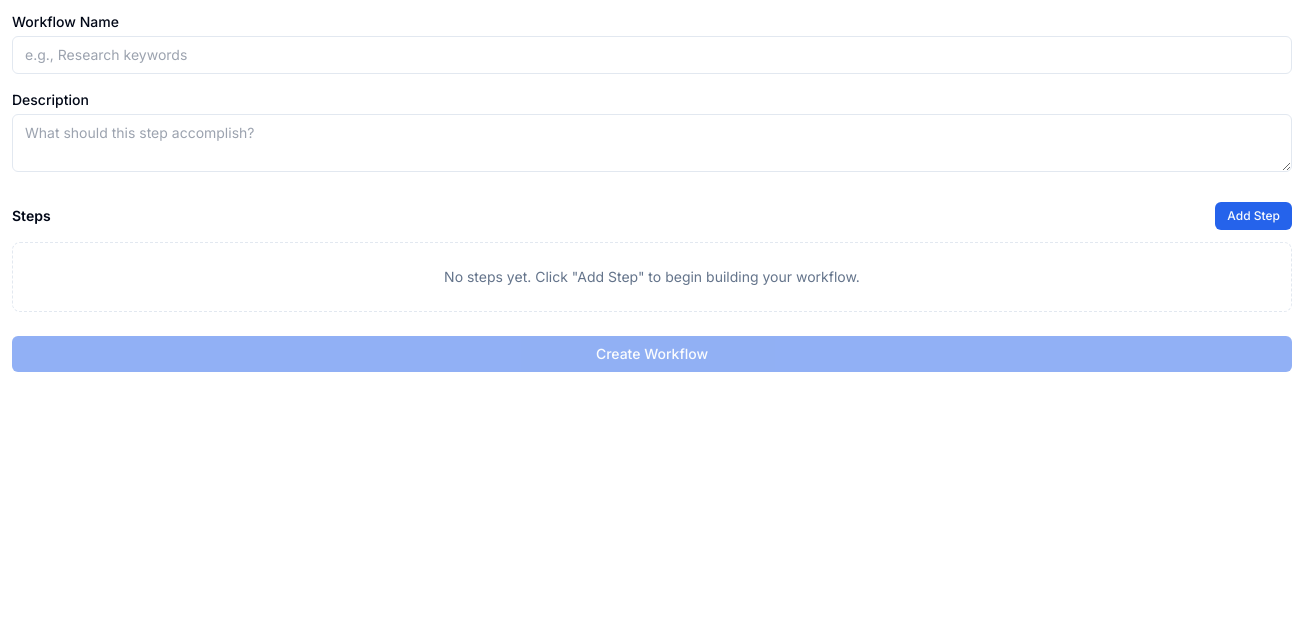
Test: WorkflowBuilder › submit button is enabled when form is valid (name + at least one valid step)
In the field named "Workflow name": (652, 55) [12,36,1292,74], type "My Workflow"
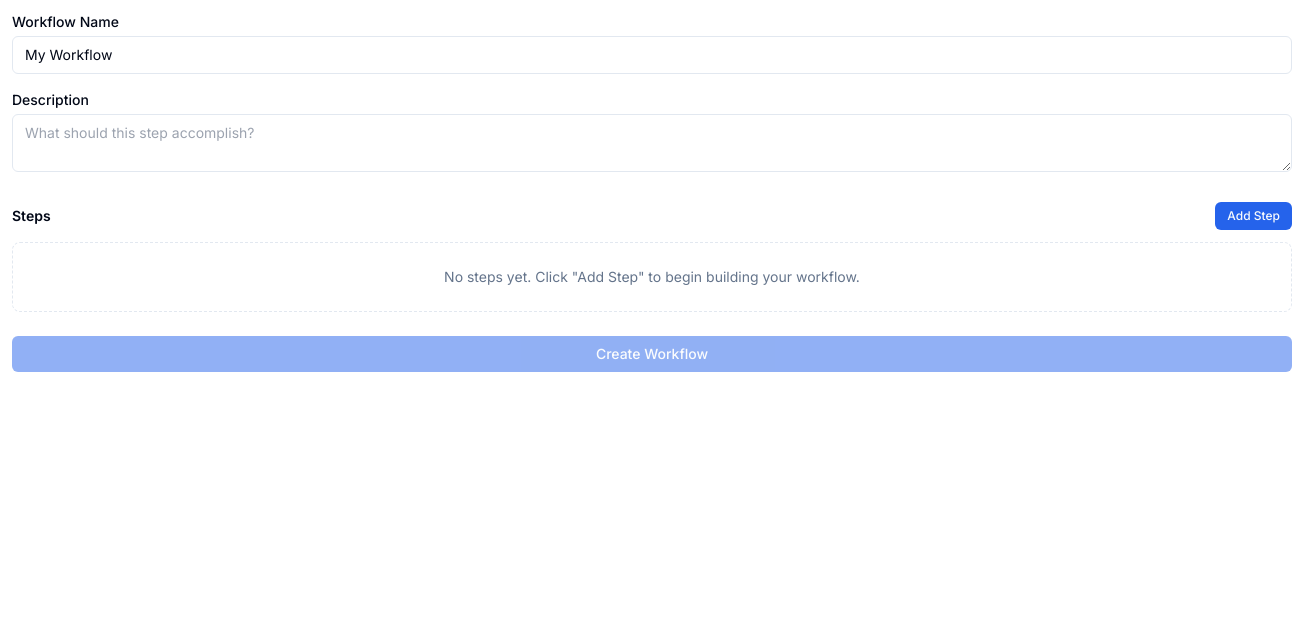
Click the button "Add Step": click(1254, 216) [1215,202,1292,230]
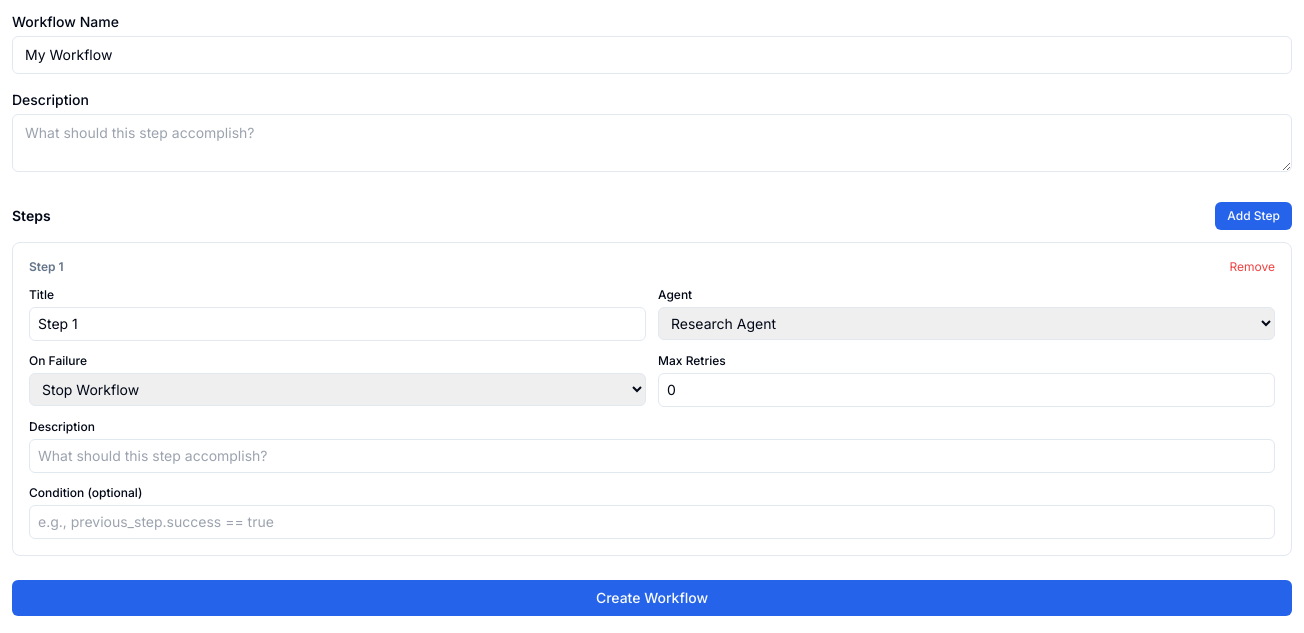
Expected: the button "Create Workflow" is enabled, [12,580,1292,616]
